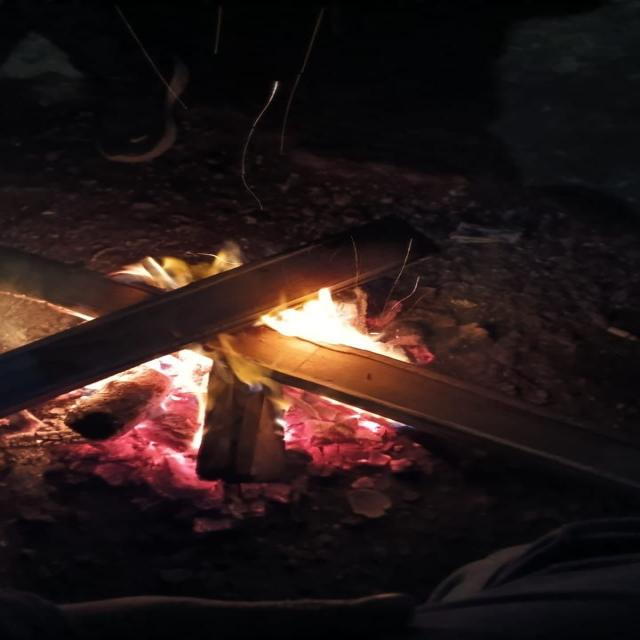fire: (265, 288, 407, 362), (137, 347, 207, 462)
